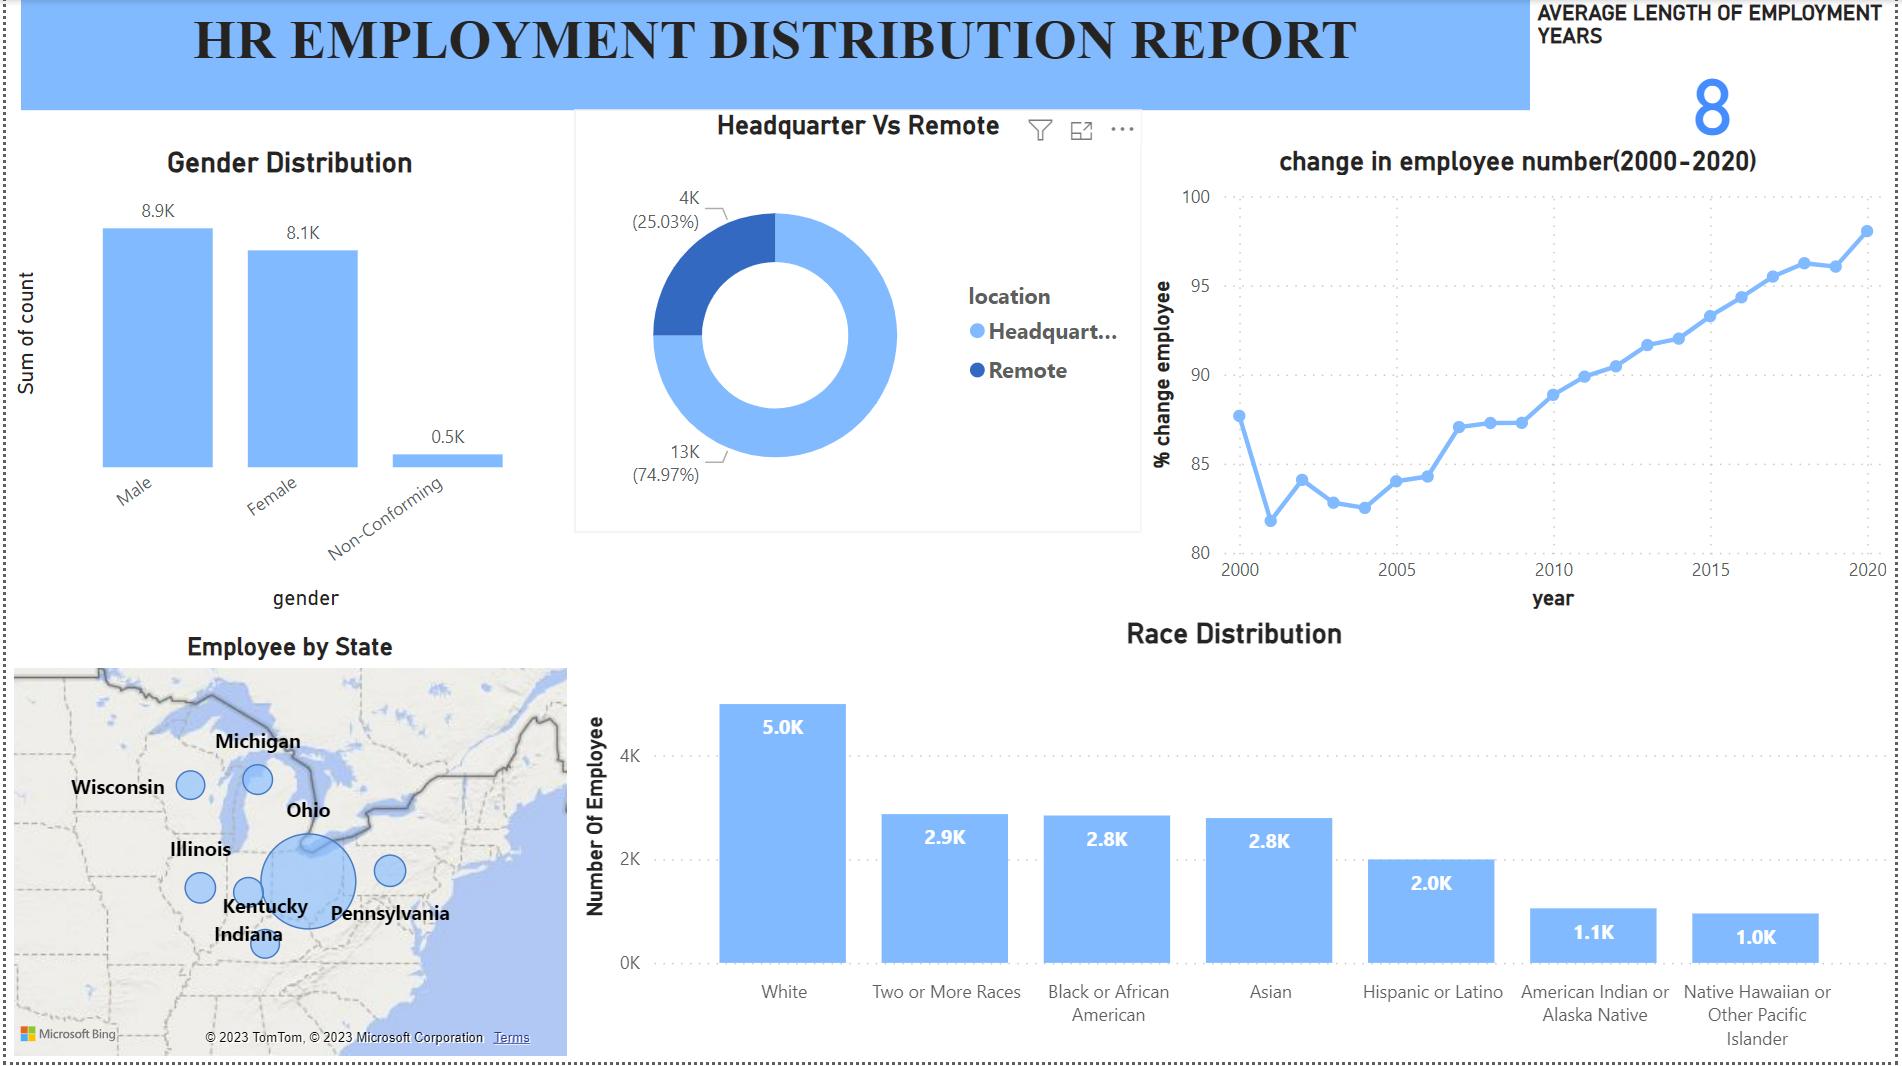

The page's visual inventory and layout, read from the dashboard file:
{"tool":"powerbi","page":{"name":"Page 1","canvas":[1280,720],"ordinal":0},"visuals":[{"type":"textbox","box":[10.1,0,1022.5,74.7],"z":0},{"type":"card","title":"AVERAGE LENGTH OF EMPLOYMENT YEARS","fields":{"Values":["Sum(avg_length_employment.avg_length_employment)"]},"box":[1032.5,0,247,99.1],"z":1},{"type":"columnChart","title":"Gender Distribution","fields":{"Category":["gender_breakdown_of_employee.gender"],"Y":["Sum(gender_breakdown_of_employee.count)"]},"box":[0,99.1,384.9,318.8],"z":2},{"type":"donutChart","title":"Headquarter Vs Remote","fields":{"Category":["employee_location.location"],"Y":["Sum(employee_location.count)"]},"box":[384.9,74.7,384.9,285.8],"z":3},{"type":"lineChart","title":"change in employee number(2000-2020)","fields":{"Category":["year_wise_hire_termination.year"],"Y":["Sum(year_wise_hire_termination.net_change_percent)"]},"box":[769.7,99.1,509.8,318.8],"z":4},{"type":"map","title":"Employee by State","fields":{"Category":["state_wise_employee.location_state"],"Size":["Sum(state_wise_employee.count)"]},"box":[0,428,385,292],"z":5},{"type":"clusteredColumnChart","title":"Race Distribution","fields":{"Category":["race.race"],"Y":["Sum(race.count)"]},"box":[384.9,417.9,894.7,301.6],"z":6}]}

Visuals, with their boxes in screenshot pixels (x1, y1, x2, y2), scaled from the page's 1280x720 canvas onto the 1902x1066 screenshot:
textbox: box(15, 0, 1534, 111)
"AVERAGE LENGTH OF EMPLOYMENT YEARS" card: box(1534, 0, 1901, 147)
"Gender Distribution" columnChart: box(0, 147, 572, 619)
"Headquarter Vs Remote" donutChart: box(572, 111, 1144, 534)
"change in employee number(2000-2020)" lineChart: box(1144, 147, 1901, 619)
"Employee by State" map: box(0, 634, 572, 1065)
"Race Distribution" clusteredColumnChart: box(572, 619, 1901, 1065)
